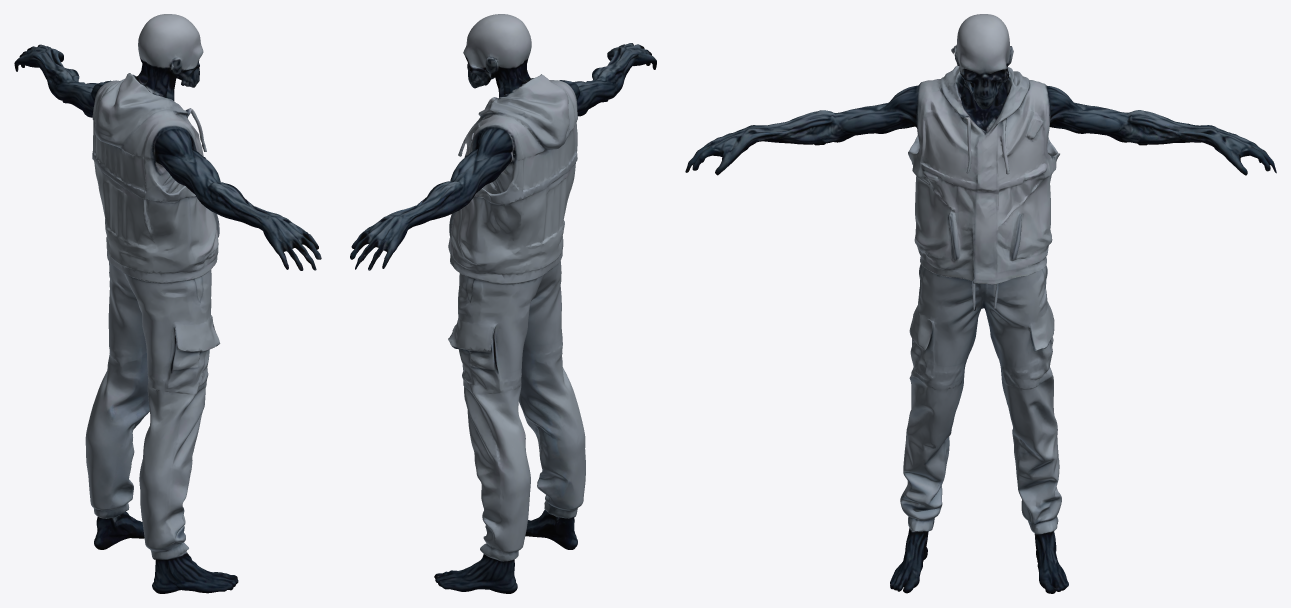
File: HnoidSklet.fbx
3 renders of one model, left to right at view 1: azimuth 30°, elevation 25°; view 2: azimuth 150°, elevation 25°; view 3: azimuth 270°, elevation 25°, orthographic. The views are drawn at different scales.
Parts seen in each view (by area): view 1: tripo_node_095efbbc; view 2: tripo_node_095efbbc; view 3: tripo_node_095efbbc.
Boxes of the visible parts, x1,y1,x2,y2 form: tripo_node_095efbbc: (14, 14, 321, 593); tripo_node_095efbbc: (350, 14, 656, 593); tripo_node_095efbbc: (685, 14, 1276, 593).
Size of the model in its own units: 0.2201 by 1 by 0.9537.
Materials: 1 (1 with a texture image).
